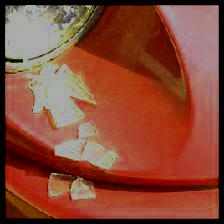head_lamp: (8, 7, 89, 54)
